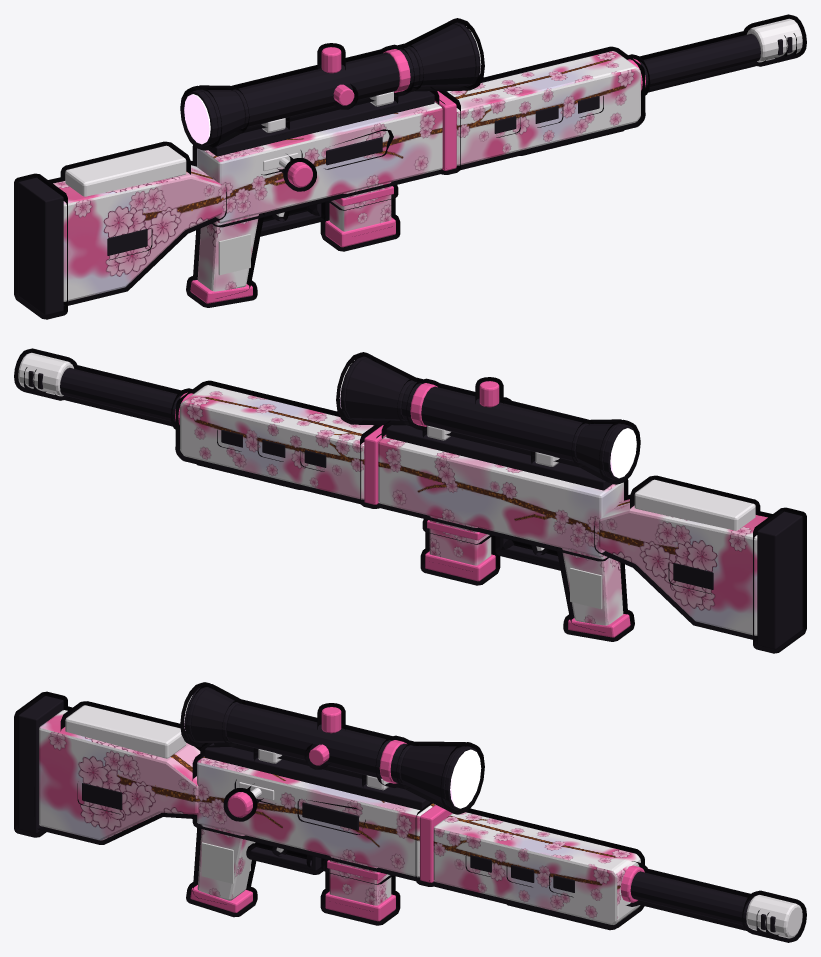
The model's file is Sniper_Sakura.fbx.
3 views of the same model, one above another, from view 1: azimuth 30°, elevation 25°; view 2: azimuth 150°, elevation 25°; view 3: azimuth 330°, elevation 25° (orthographic).
Parts seen in each view (by area): view 1: Body_Sakura, Body_Noir, Body_Contour, Body_Blanc, Body_Rose, Magazine_Sakura, Magazine_Rose, Root, Body_LentilleRose, Magazine_Contour; view 2: Body_Sakura, Body_Noir, Body_Contour, Body_Blanc, Body_Rose, Magazine_Sakura, Magazine_Rose, Root, Body_LentilleRose, Magazine_Contour; view 3: Body_Sakura, Body_Noir, Body_Contour, Body_Blanc, Body_Rose, Magazine_Sakura, Magazine_Rose, Body_LentilleRose, Root, Magazine_Contour, ChargingHandle_Rose, ChargingHandle_Contour.
Part boxes in pixels (<box>): Body_Sakura: <box>53,51,640,301</box>; Body_Noir: <box>18,22,792,315</box>; Body_Contour: <box>14,14,806,319</box>; Body_Blanc: <box>65,18,802,196</box>; Body_Rose: <box>190,47,645,303</box>; Magazine_Sakura: <box>329,182,391,231</box>; Magazine_Rose: <box>325,186,395,247</box>; Root: <box>218,234,250,275</box>; Body_LentilleRose: <box>184,26,481,144</box>; Magazine_Contour: <box>320,181,400,251</box>; Body_Sakura: <box>180,385,767,635</box>; Body_Noir: <box>28,356,802,649</box>; Body_Contour: <box>14,348,806,653</box>; Body_Blanc: <box>18,352,755,530</box>; Body_Rose: <box>175,381,630,637</box>; Magazine_Sakura: <box>429,516,491,565</box>; Magazine_Rose: <box>425,520,495,581</box>; Root: <box>570,568,602,609</box>; Body_LentilleRose: <box>339,360,636,478</box>; Magazine_Contour: <box>420,515,500,585</box>; Body_Sakura: <box>39,710,640,924</box>; Body_Noir: <box>18,687,775,932</box>; Body_Contour: <box>14,682,806,942</box>; Body_Blanc: <box>65,705,802,938</box>; Body_Rose: <box>190,707,644,912</box>; Magazine_Sakura: <box>329,856,391,905</box>; Magazine_Rose: <box>325,860,395,921</box>; Body_LentilleRose: <box>184,695,481,808</box>; Root: <box>201,842,250,883</box>; Magazine_Contour: <box>320,855,400,925</box>; ChargingHandle_Rose: <box>227,792,252,817</box>; ChargingHandle_Contour: <box>223,779,275,821</box>.
Size of the model in its own units: 4.91 by 1.38 by 0.5901.
Materials: 14 (2 with a texture image).
